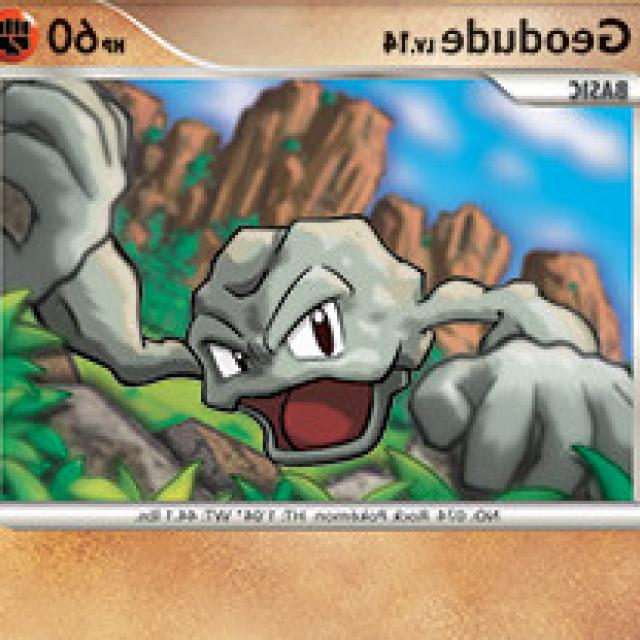Geodude: (0, 88, 632, 511)
